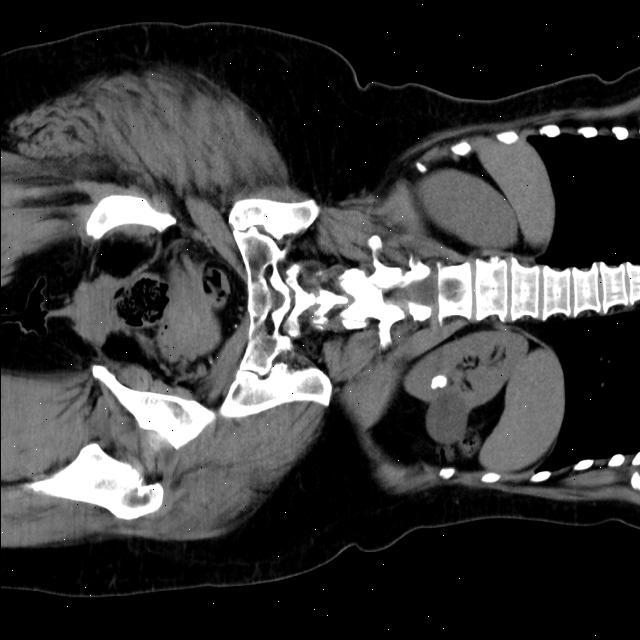kidneystone: (430, 376, 446, 389)
